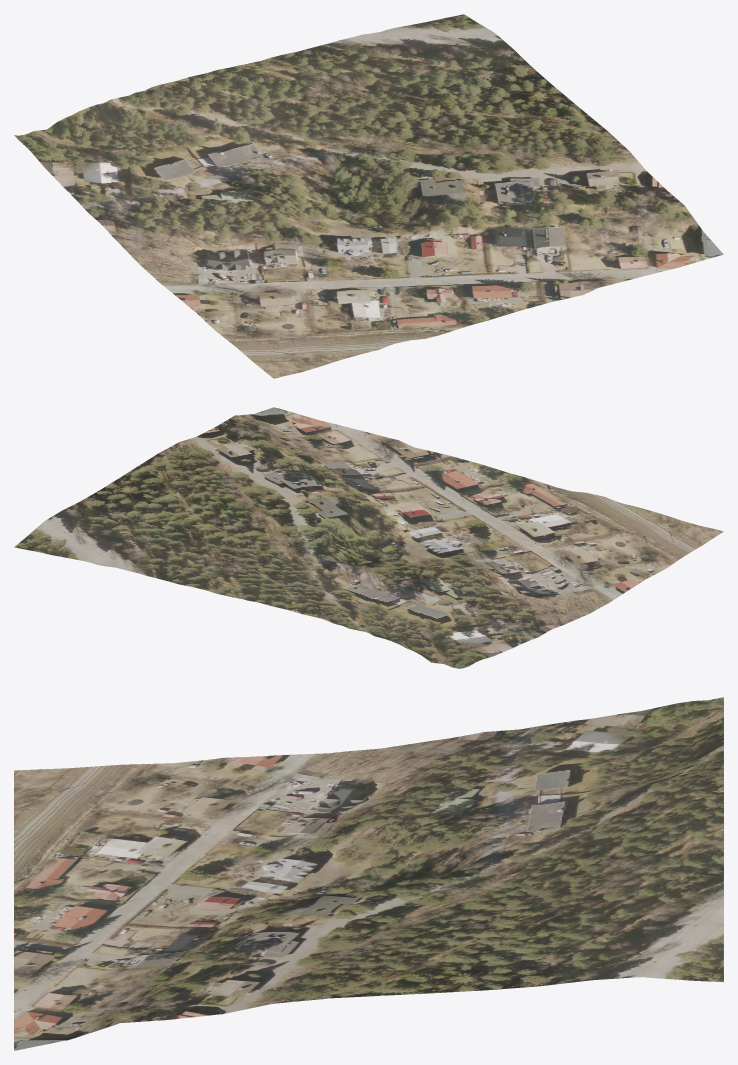
Rendered from CM_Terrain_24489844_6819999.fbx.
3 renders of one model, top to bottom at view 1: azimuth 30°, elevation 25°; view 2: azimuth 150°, elevation 25°; view 3: azimuth 270°, elevation 25°, orthographic. The views are drawn at different scales.
Visible parts, largest first — view 1: CM_Terrain_24489844_6819999_LOD0; view 2: CM_Terrain_24489844_6819999_LOD0; view 3: CM_Terrain_24489844_6819999_LOD0.
Boxes of the visible parts, box(x1,y1,x2,y2) form: CM_Terrain_24489844_6819999_LOD0: box(14, 14, 723, 378); CM_Terrain_24489844_6819999_LOD0: box(14, 407, 723, 668); CM_Terrain_24489844_6819999_LOD0: box(14, 697, 723, 1050).
Size of what is drawn, in the model's own units: 205 by 30.22 by 205.
